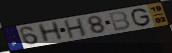6: (19, 25, 41, 46)
8: (86, 15, 107, 34)
B: (107, 10, 132, 32)
G: (130, 7, 152, 27)
H: (36, 20, 65, 44), (63, 16, 88, 40)
